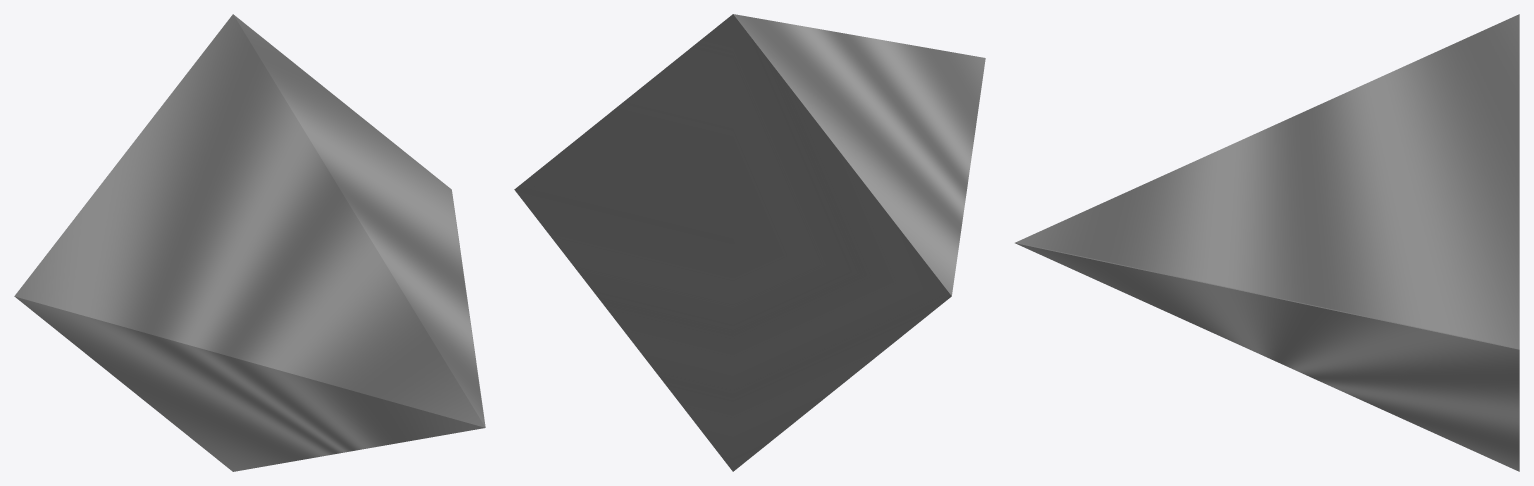
File: pyramid-bright.glb
The picture shows the model from 3 angles, left to right: view 1: azimuth 30°, elevation 25°; view 2: azimuth 150°, elevation 25°; view 3: azimuth 270°, elevation 25°; orthographic projection.
Visible parts, largest first — view 1: world; view 2: world; view 3: world.
Part boxes in pixels (box(x1,y1,x2,y2)): world: box(14, 14, 485, 471); world: box(514, 14, 985, 471); world: box(1015, 14, 1519, 471).
Bounding box in the file's own units: 1.2 × 1.2 × 1.2.
1 material, 1 textured.
